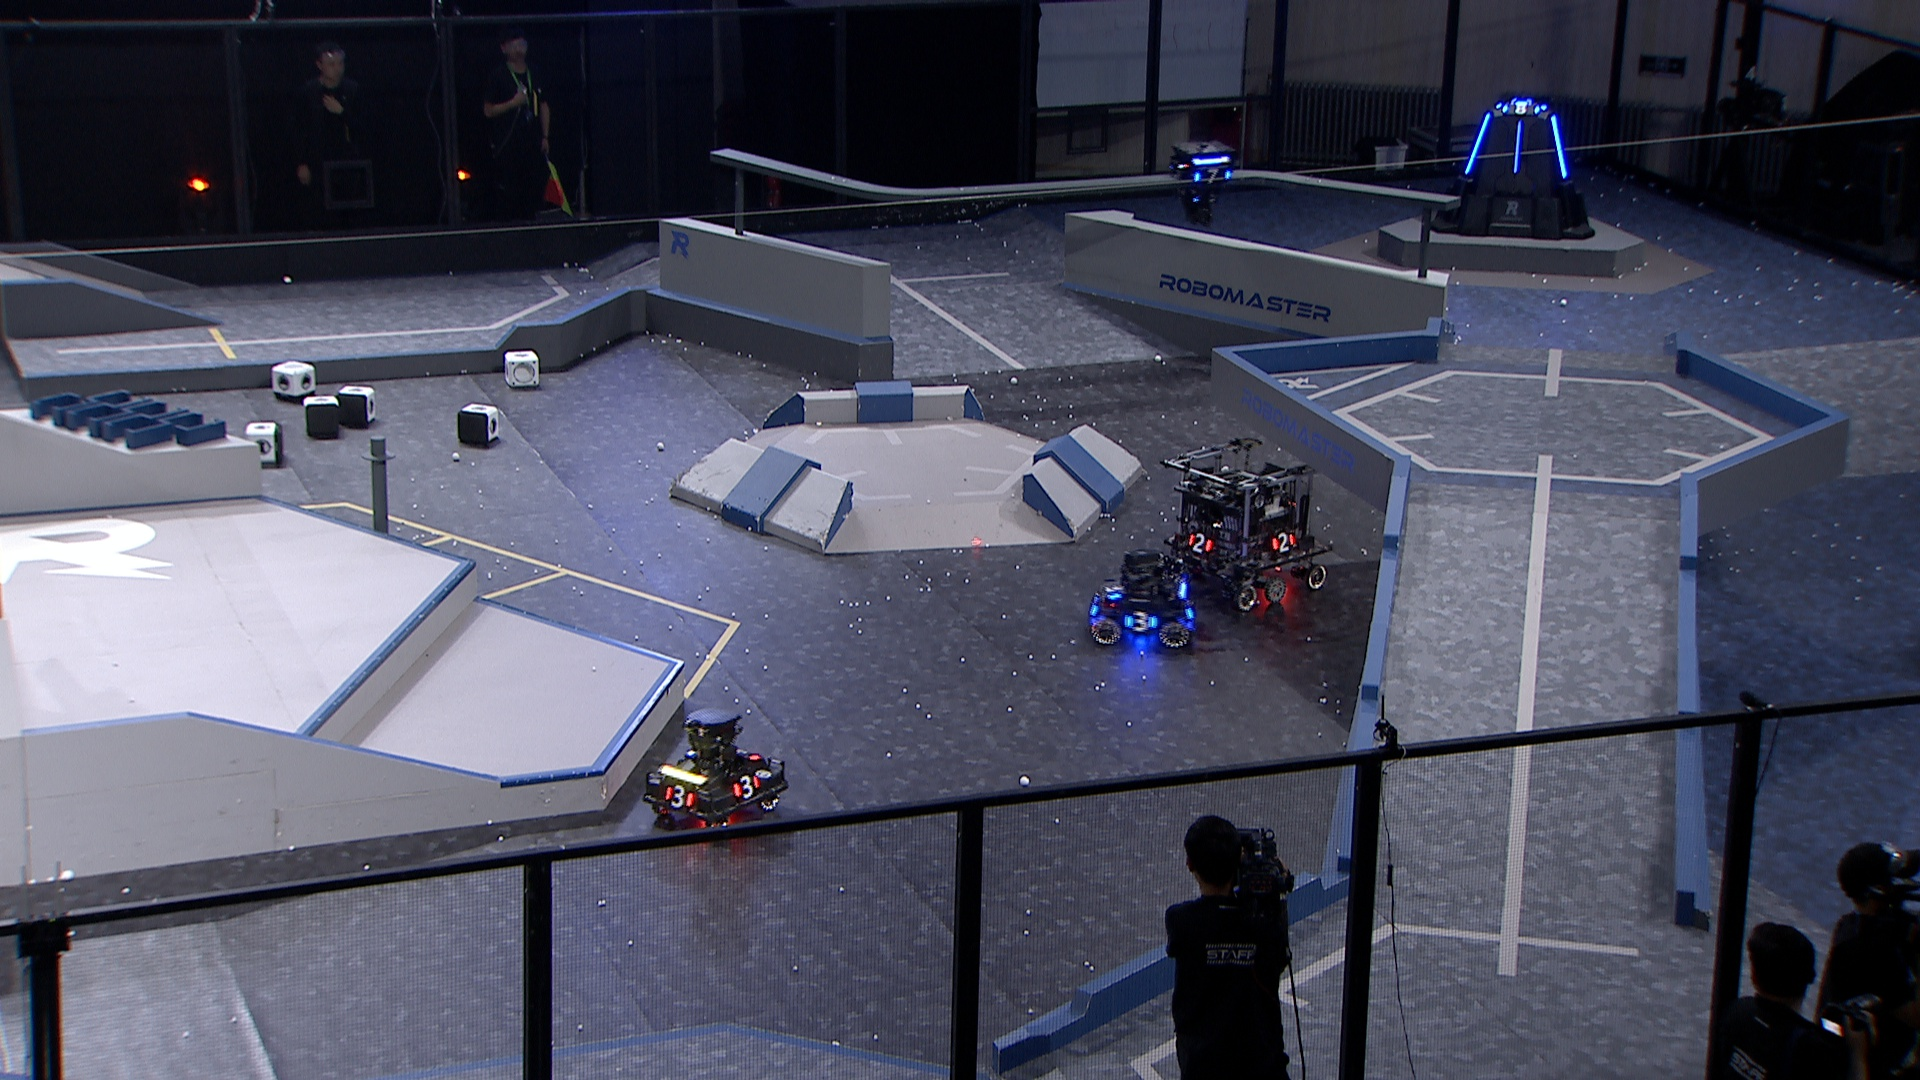armor: (1461, 109, 1491, 179), (1549, 115, 1571, 181), (661, 783, 699, 808), (732, 775, 764, 802), (1122, 611, 1160, 632), (1509, 123, 1523, 173), (1501, 102, 1543, 119), (1188, 167, 1233, 183), (1185, 531, 1215, 555), (1269, 531, 1298, 553), (1102, 582, 1124, 603)
base: (1419, 94, 1598, 243)
car: (1162, 433, 1335, 611), (642, 707, 790, 832), (1087, 549, 1200, 651)
watcher: (1168, 138, 1245, 233)
